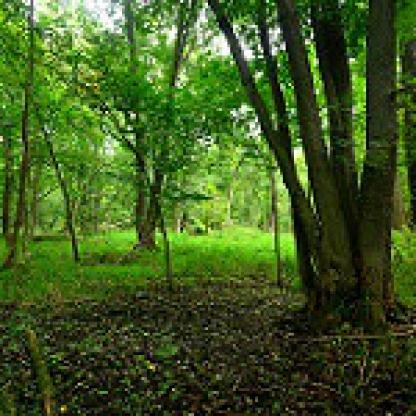tree: (213, 0, 414, 339), (128, 0, 208, 258)
trunk: (280, 5, 352, 319), (308, 3, 358, 316), (358, 0, 399, 319)
